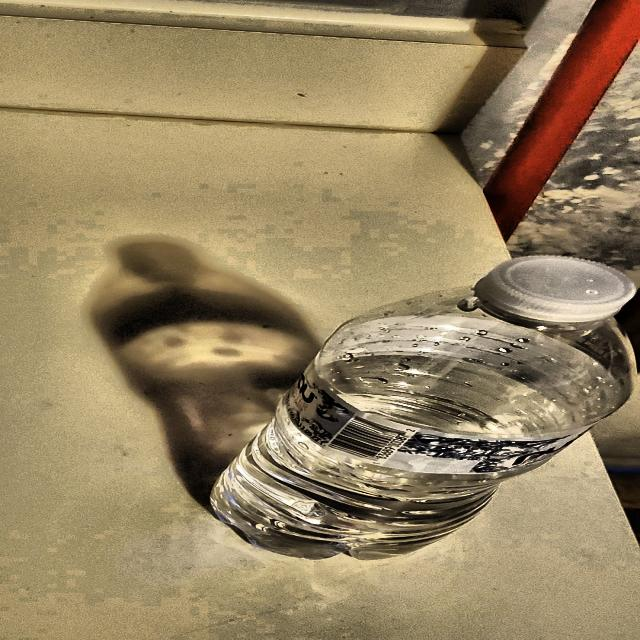Bottles: (207, 248, 640, 562)
